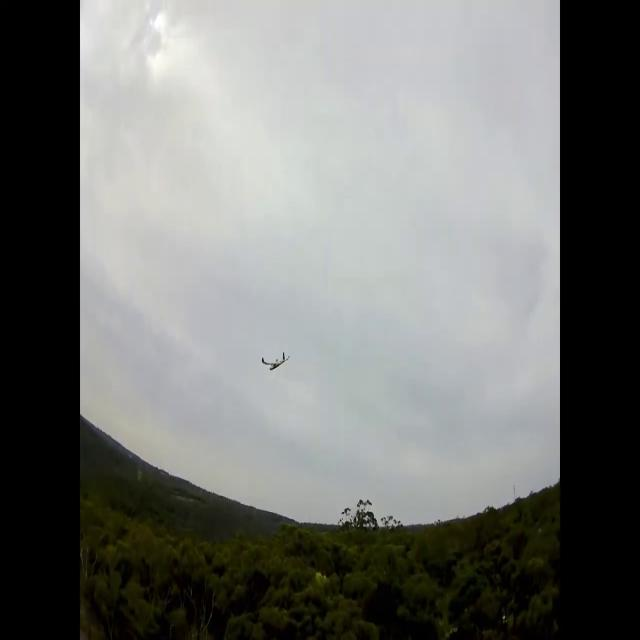iha: (261, 353, 290, 371)
